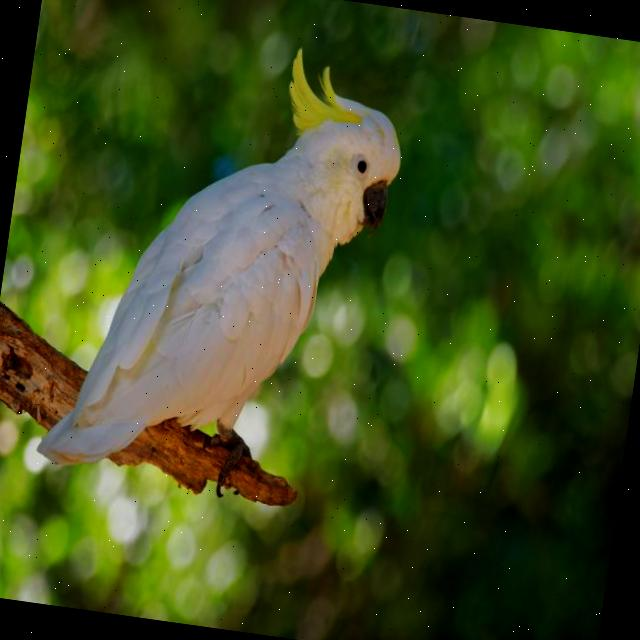Kakatua Putih: (2, 0, 435, 541)
